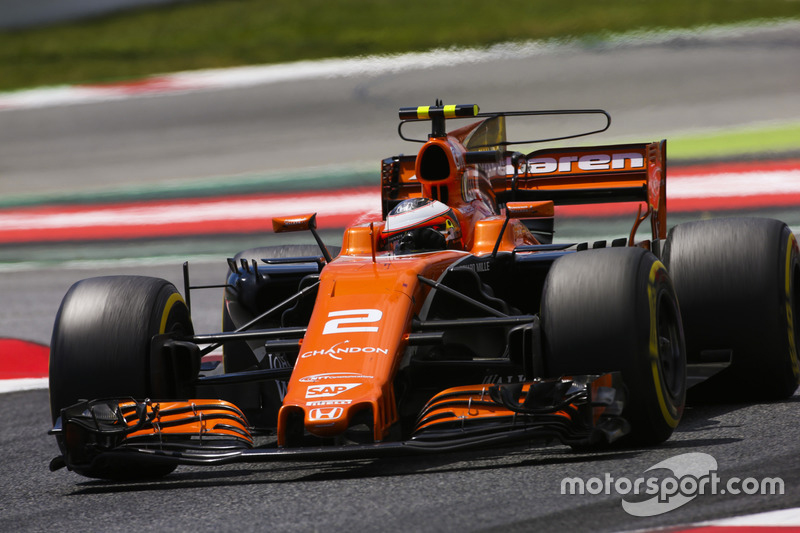F1 Car: (42, 95, 800, 473)
